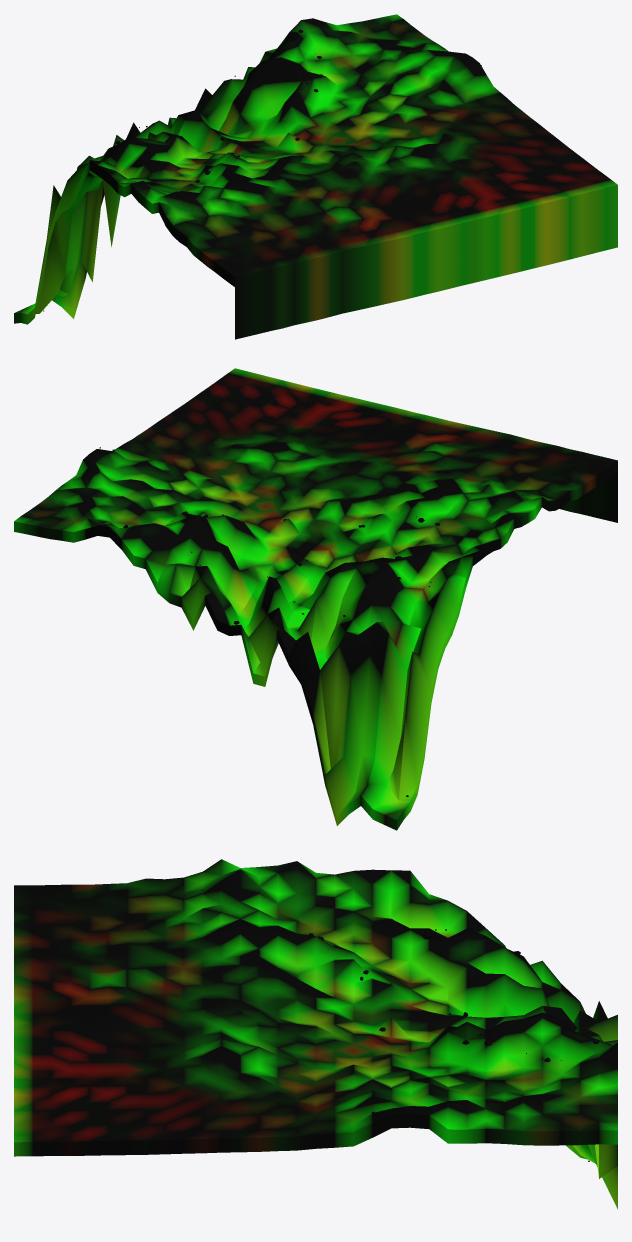
The model's file is Terrain_07_02.fbx.
3 views of the same model, one above another, from view 1: azimuth 30°, elevation 25°; view 2: azimuth 150°, elevation 25°; view 3: azimuth 270°, elevation 25° (orthographic). The views are drawn at different scales.
Visible parts, largest first — view 1: Terrain_07_02_LOD0; view 2: Terrain_07_02_LOD0; view 3: Terrain_07_02_LOD0.
Boxes of the visible parts, left/top/right/bottom form: Terrain_07_02_LOD0: left=14, top=14, right=617, bottom=339; Terrain_07_02_LOD0: left=14, top=368, right=617, bottom=830; Terrain_07_02_LOD0: left=14, top=859, right=617, bottom=1209.
Size of what is drawn, in the model's own units: 384 by 234 by 384.
